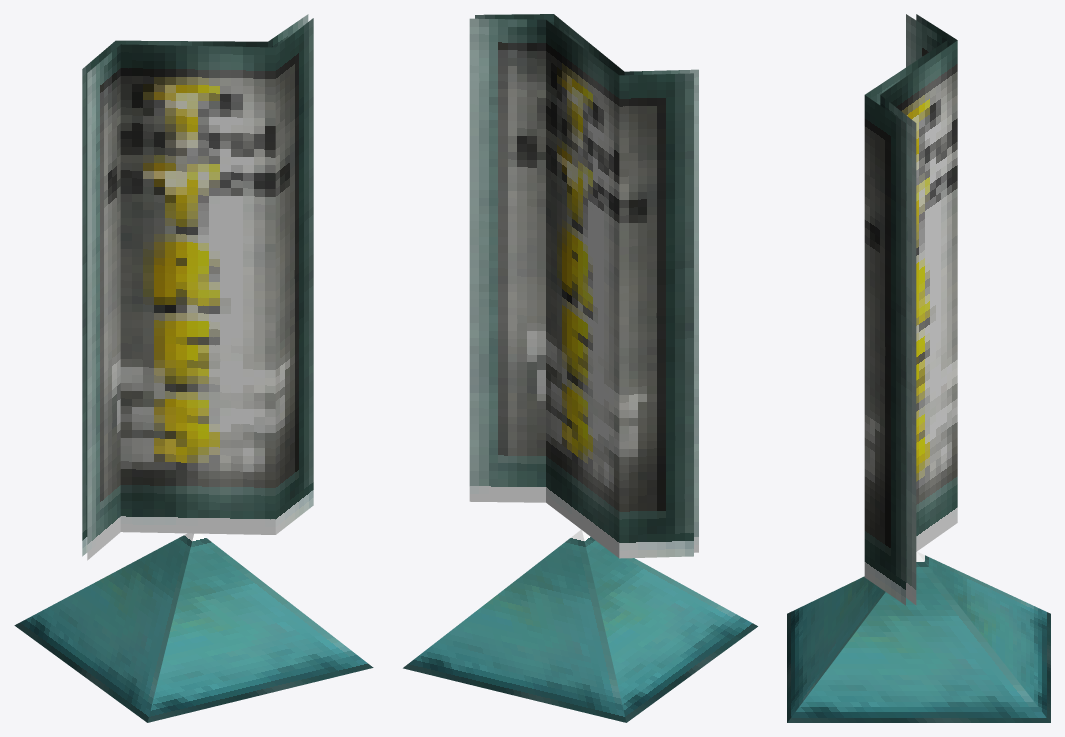
The picture shows the model from 3 angles, left to right: view 1: azimuth 30°, elevation 25°; view 2: azimuth 150°, elevation 25°; view 3: azimuth 270°, elevation 25°; orthographic projection.
Parts seen in each view (by area): view 1: prim018-tyresign; view 2: prim018-tyresign; view 3: prim018-tyresign.
Boxes of the visible parts, left/top/right/bottom form: prim018-tyresign: left=14, top=14, right=373, bottom=722; prim018-tyresign: left=403, top=14, right=757, bottom=722; prim018-tyresign: left=787, top=14, right=1050, bottom=722.
Size of the model in its own units: 50 by 128 by 51.
Materials: 1 (1 with a texture image).
